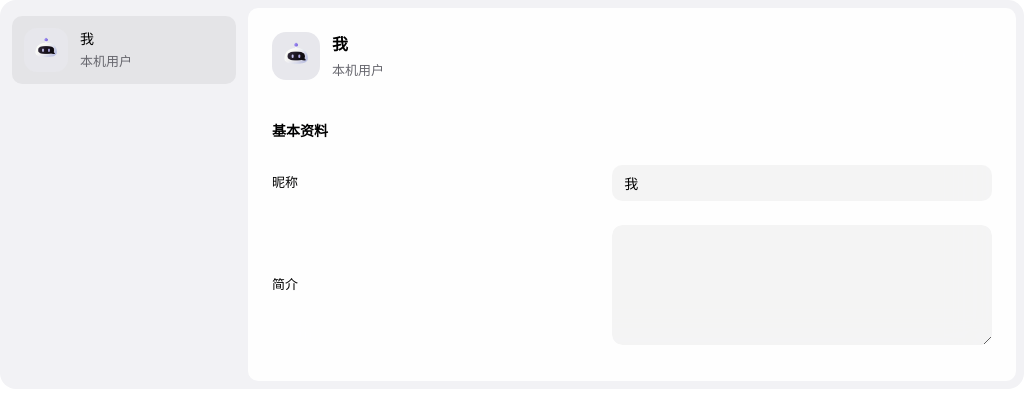
直接应用用户资料 › 昵称失焦直接应用且不触发 session 重新读取
This screenshot has width=1024, height=406.
Replace the text in the field labelled "昵称" with "  新昵称  " at {"x": 802, "y": 183}, box [612,165,992,201]
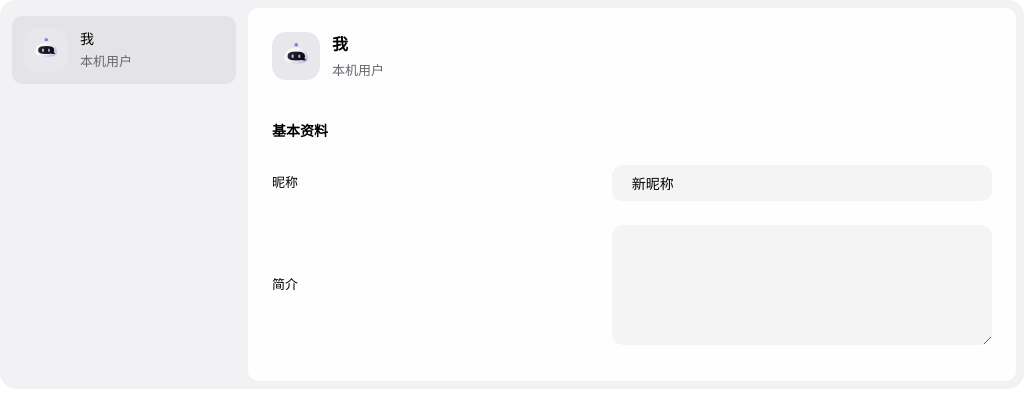
Leave the field labelled "昵称", box [612,165,992,201]
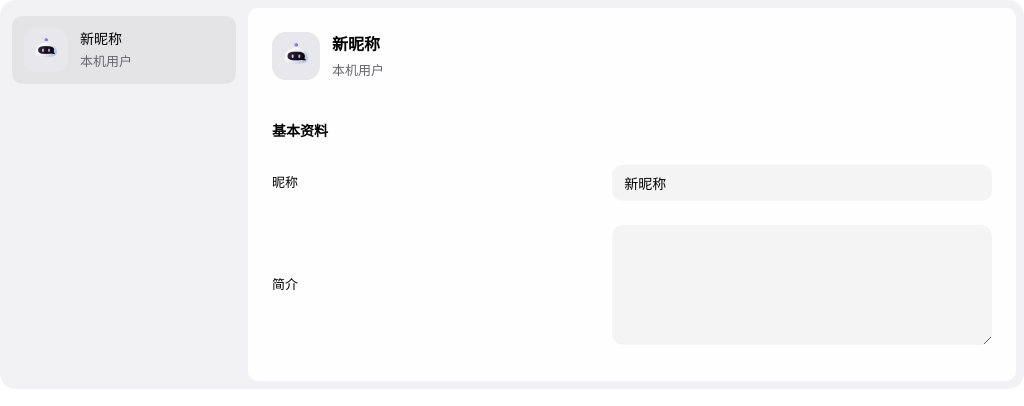
Result: the text "新昵称" is shown at [80,29,122,48]
